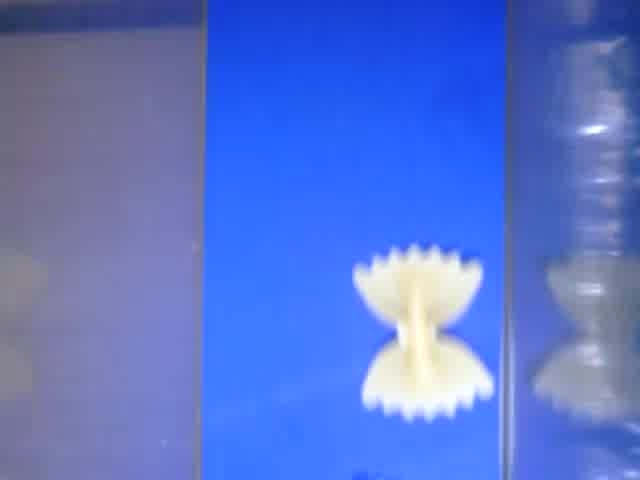farfalle: (351, 244, 495, 422)
